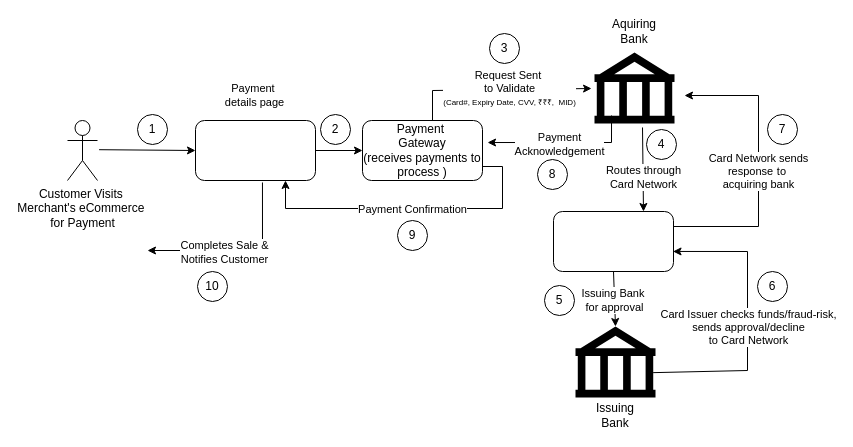
The diagram is 853 pixels wide and 447 high, and some of its shapes have lost their labels. Here are the shapes that lost their labels. From the top down, the centre of each, then its label:
At [255,150]: "Merchant's Website".
At [613,241]: "Card Network/Schema Visa, Mastercard, Rupay etc".
